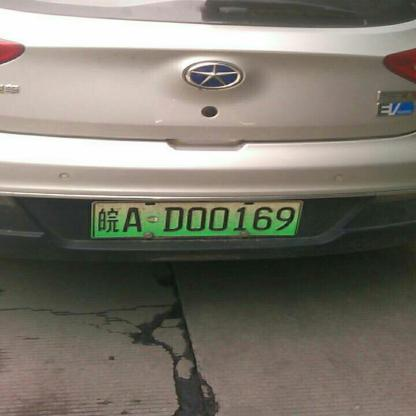lp: (93, 202, 300, 236)
